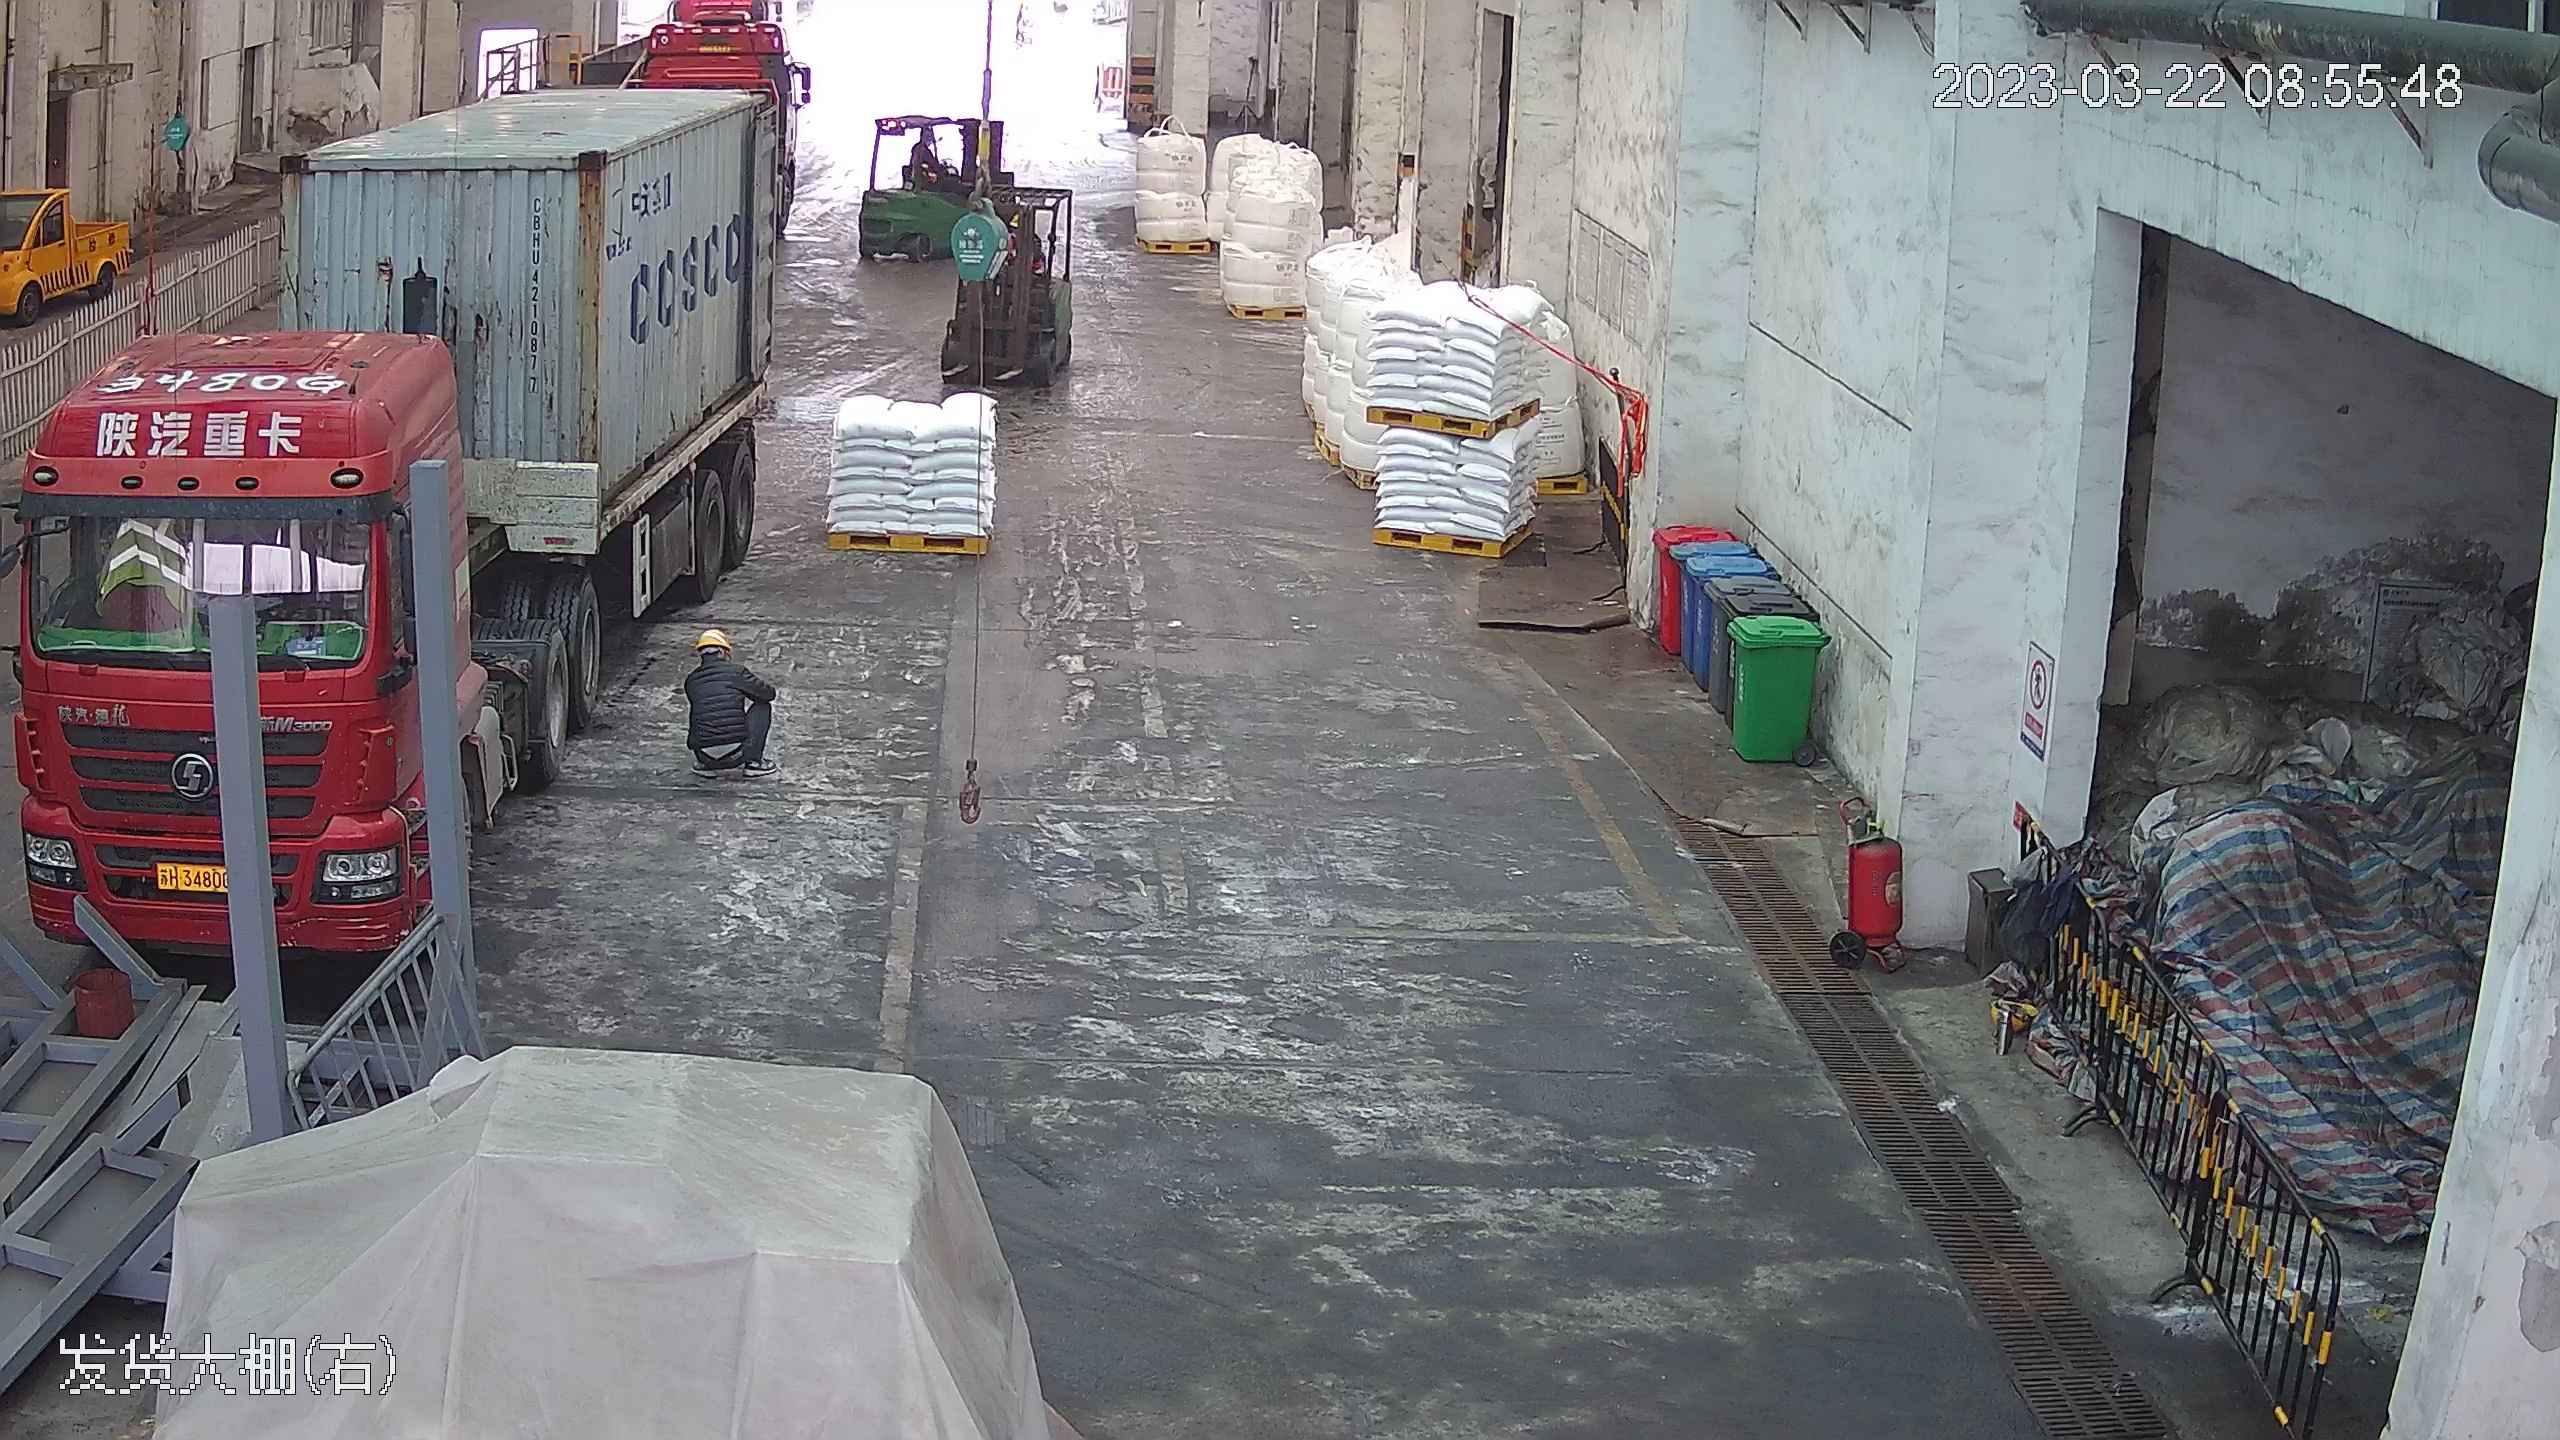head: (684, 627, 748, 694)
helmet: (691, 628, 732, 655)
people: (679, 625, 766, 779)
truck: (13, 17, 780, 972)
